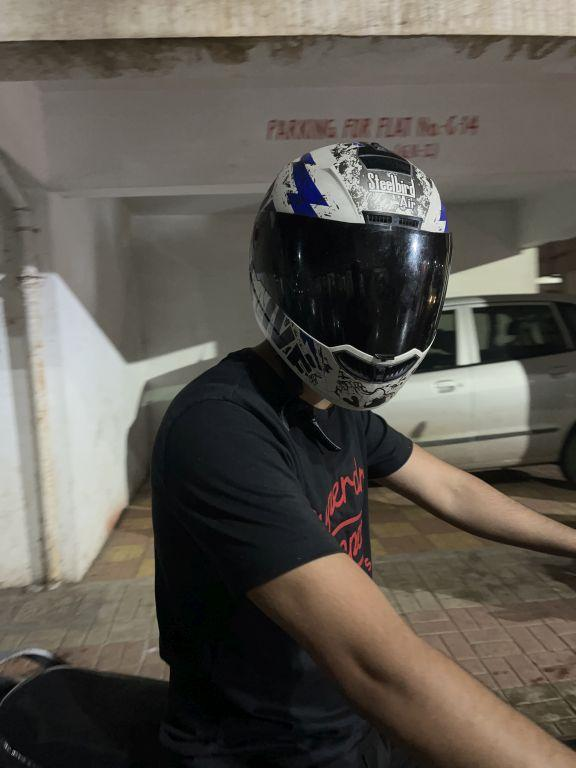helmet: (237, 119, 454, 429)
